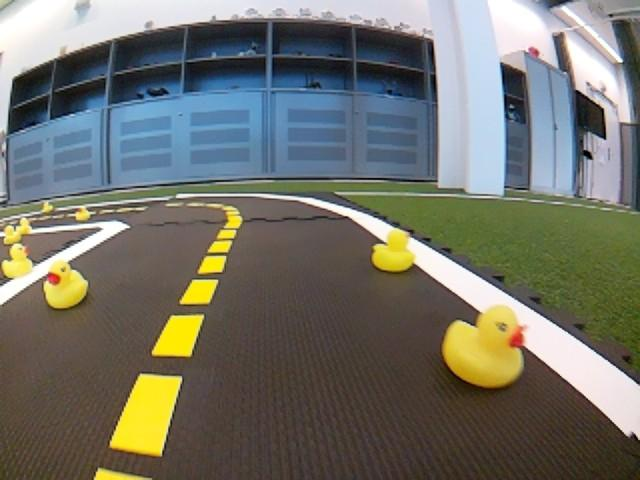Duckies: (443, 306, 528, 389), (43, 263, 86, 310), (372, 230, 417, 272), (2, 246, 31, 279), (222, 211, 240, 229), (5, 227, 21, 244), (15, 219, 32, 233), (77, 209, 92, 221), (44, 205, 54, 212)
